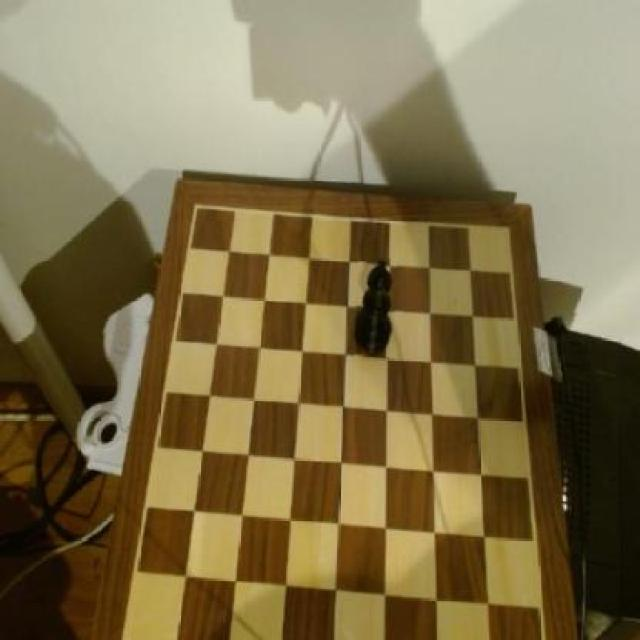black-bishop: (355, 257, 397, 358)
